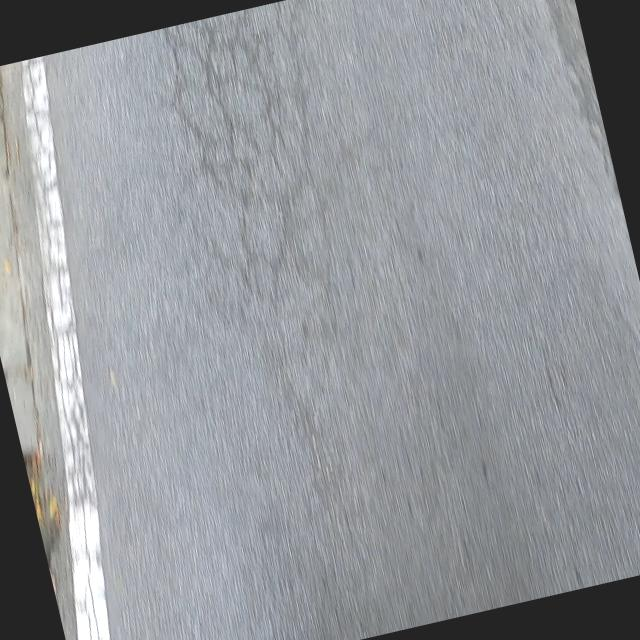Retak-Buaya: (163, 0, 343, 353), (22, 56, 100, 516)
